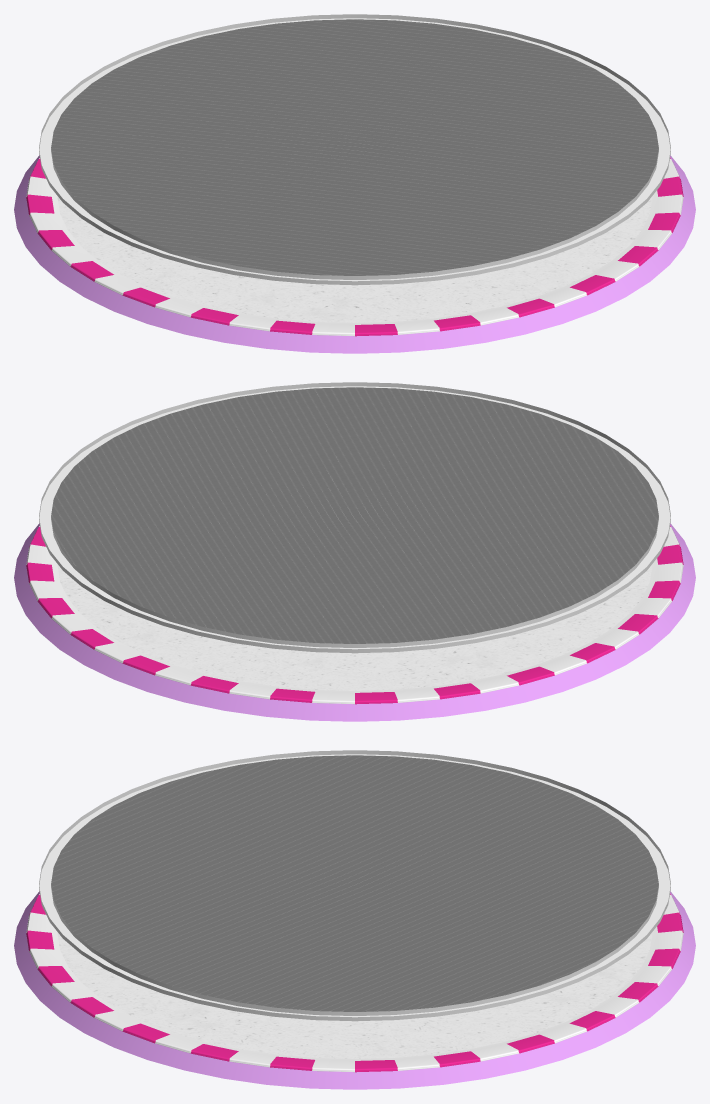
Rendered from Ground_1.fbx.
The picture shows the model from 3 angles, top to bottom: view 1: azimuth 30°, elevation 25°; view 2: azimuth 150°, elevation 25°; view 3: azimuth 270°, elevation 25°; orthographic projection.
Parts seen in each view (by area): view 1: Fence, Ground_Main, Corner; view 2: Fence, Ground_Main, Corner; view 3: Fence, Ground_Main, Corner.
Part boxes in pixels (x1,y1,x2,y2): Fence: (51,19,658,275); Ground_Main: (14,155,695,353); Corner: (39,14,670,285); Fence: (51,387,658,643); Ground_Main: (14,523,695,721); Corner: (39,382,670,653); Fence: (51,755,658,1011); Ground_Main: (14,891,695,1089); Corner: (39,750,670,1021).
Size of the model in its own units: 3613 by 362 by 3613.
3 materials, 3 textured.
